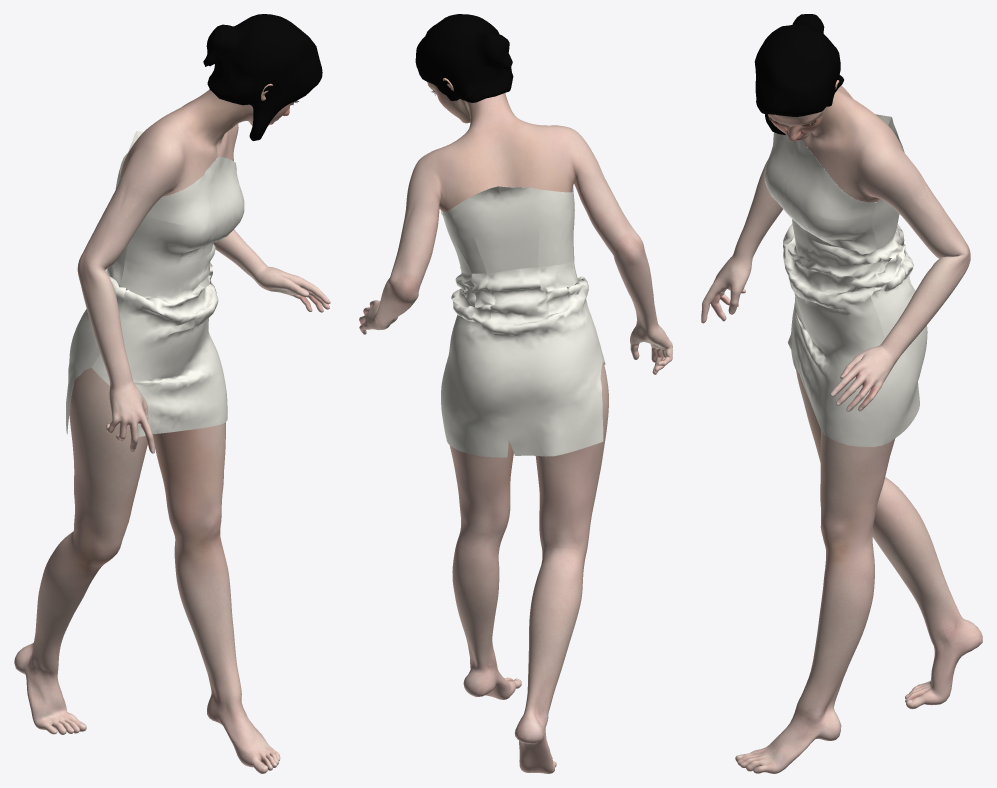
The model's file is Dynamic.obj.
3 views of the same model, side by side, from view 1: azimuth 30°, elevation 25°; view 2: azimuth 150°, elevation 25°; view 3: azimuth 270°, elevation 25° (orthographic). The views are drawn at different scales.
Size of the model in its own units: 683 by 1739 by 590.
